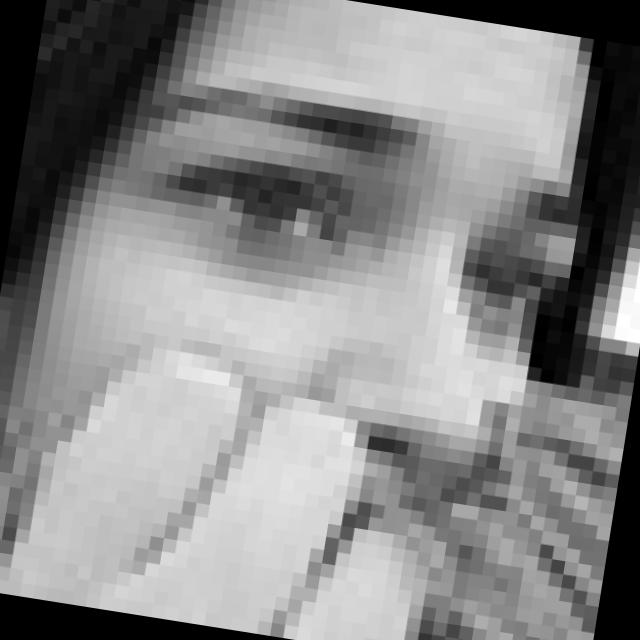fear: (44, 59, 590, 640)
